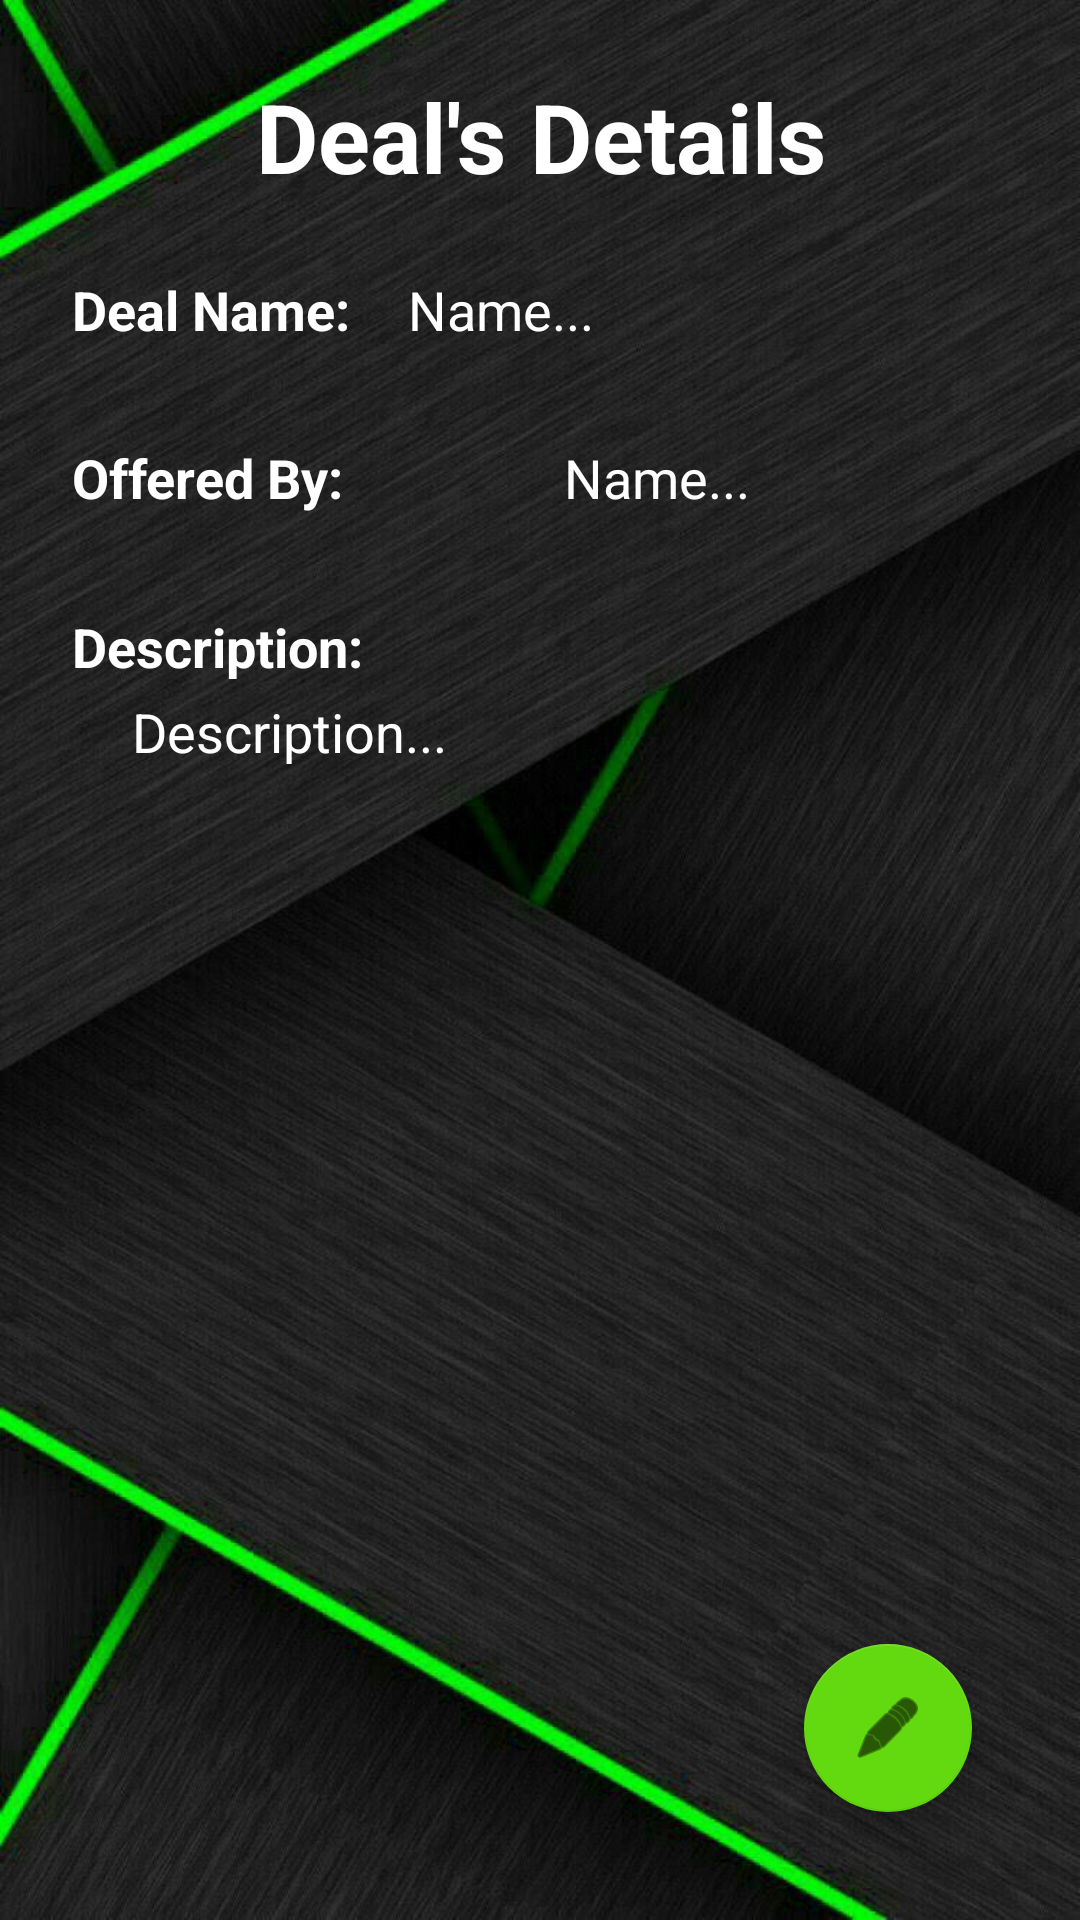

Where icons sit on this 1080w x 1920h app screen, as box(x1, y1, x2, y2):
edit: box(804, 1644, 972, 1812)
